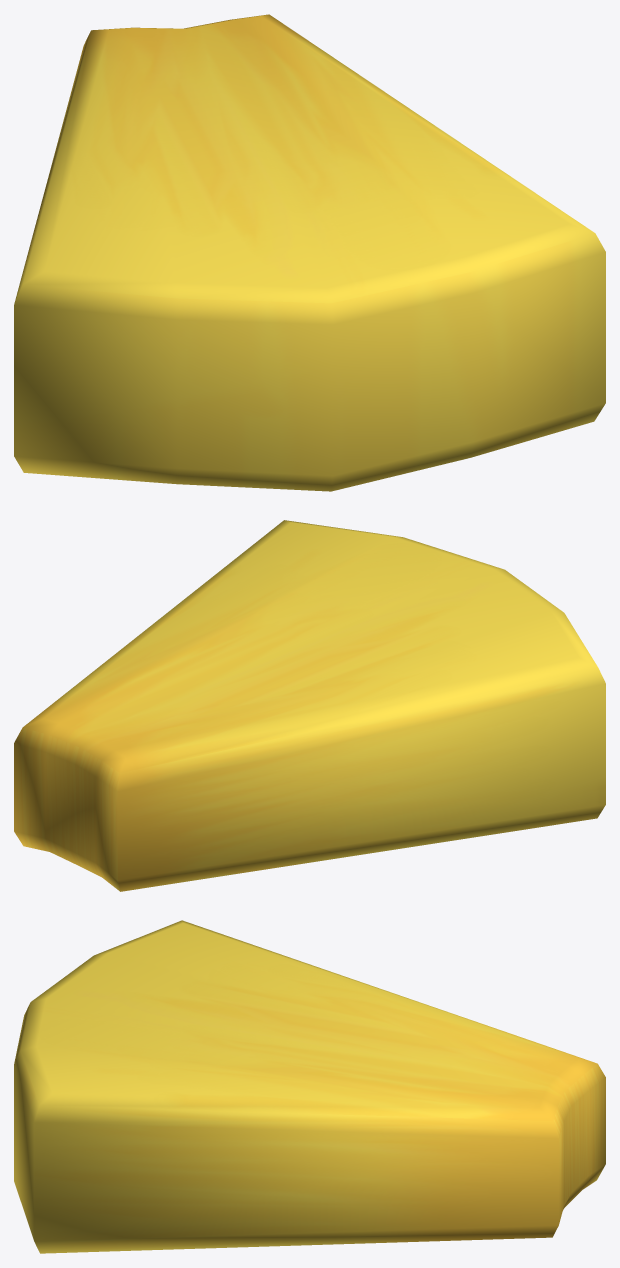
Rendered from slicedpineapple.fbx.
3 views of the same model, one above another, from view 1: azimuth 30°, elevation 25°; view 2: azimuth 150°, elevation 25°; view 3: azimuth 270°, elevation 25° (orthographic). The views are drawn at different scales.
Visible parts, largest first — view 1: Cylinder.007; view 2: Cylinder.007; view 3: Cylinder.007.
Part boxes in pixels (x1,y1,x2,y2): Cylinder.007: [14, 14, 605, 491]; Cylinder.007: [14, 520, 605, 891]; Cylinder.007: [14, 920, 605, 1253].
Size of the model in its own units: 178 by 70.56 by 233.
